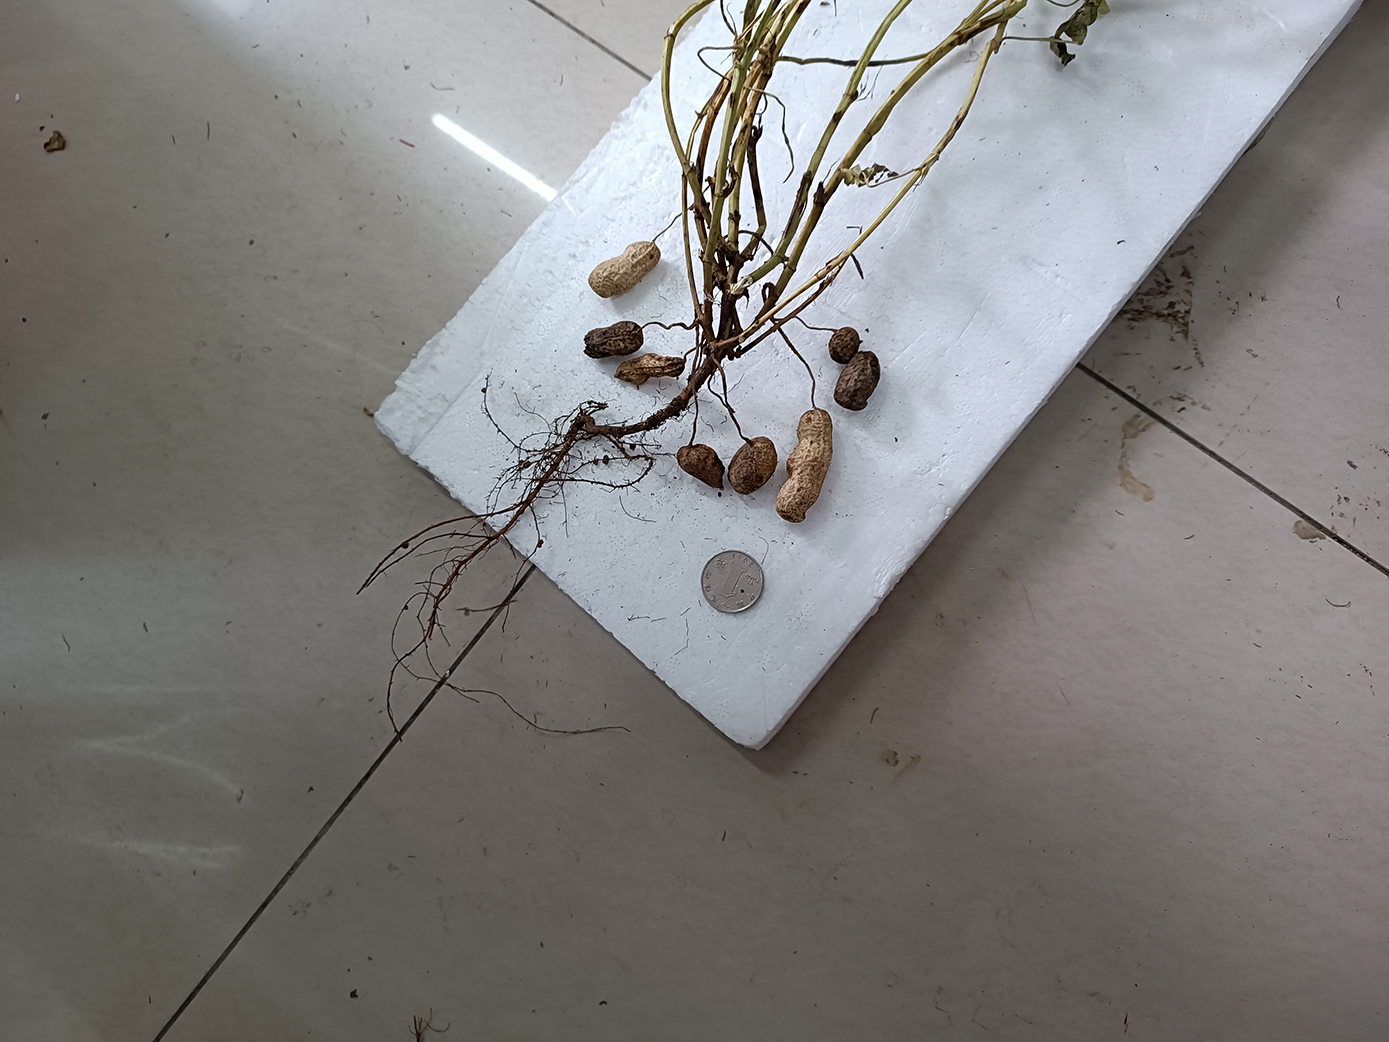h: (778, 408, 836, 523), (587, 240, 661, 296)
l: (728, 435, 778, 494), (833, 352, 882, 410), (675, 445, 724, 493), (583, 320, 643, 358), (616, 355, 685, 385), (827, 327, 860, 362)
